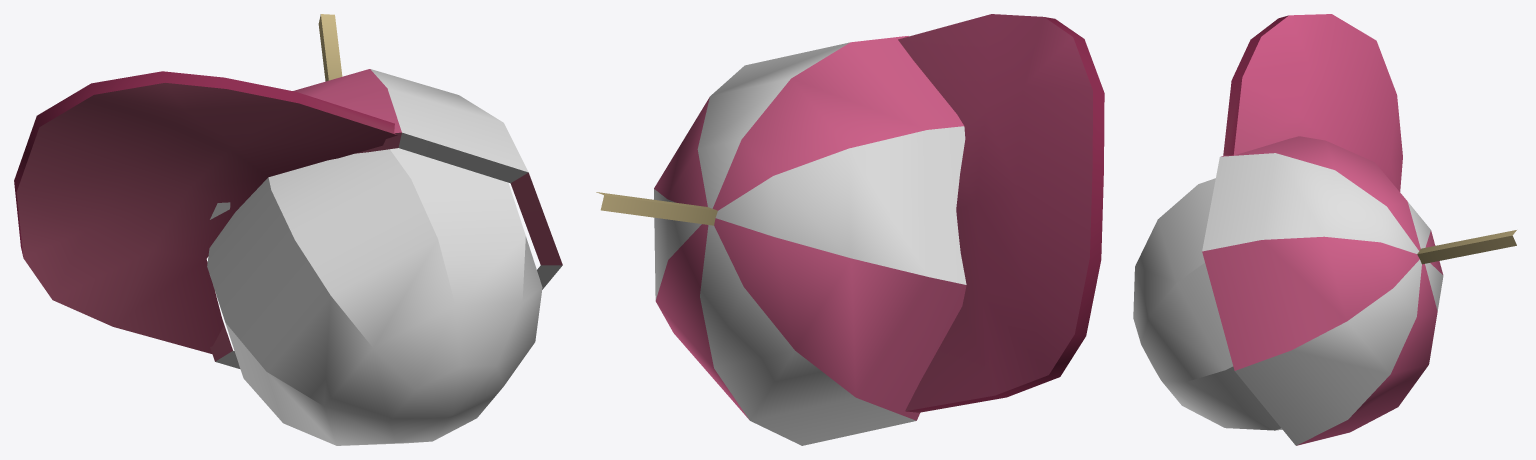
File: rookieGreenPearlOriented.glb
3 views of the same model, side by side, from view 1: azimuth 30°, elevation 25°; view 2: azimuth 150°, elevation 25°; view 3: azimuth 270°, elevation 25° (orthographic). The views are drawn at different scales.
Parts seen in each view (by area): view 1: rookieGreenPearlOriented; view 2: rookieGreenPearlOriented; view 3: rookieGreenPearlOriented.
Boxes of the visible parts, left/top/right/bottom form: rookieGreenPearlOriented: left=14, top=14, right=562, bottom=445; rookieGreenPearlOriented: left=596, top=14, right=1104, bottom=445; rookieGreenPearlOriented: left=1133, top=14, right=1516, bottom=445.
Size of the model in its own units: 0.5622 by 0.4758 by 0.5053.
